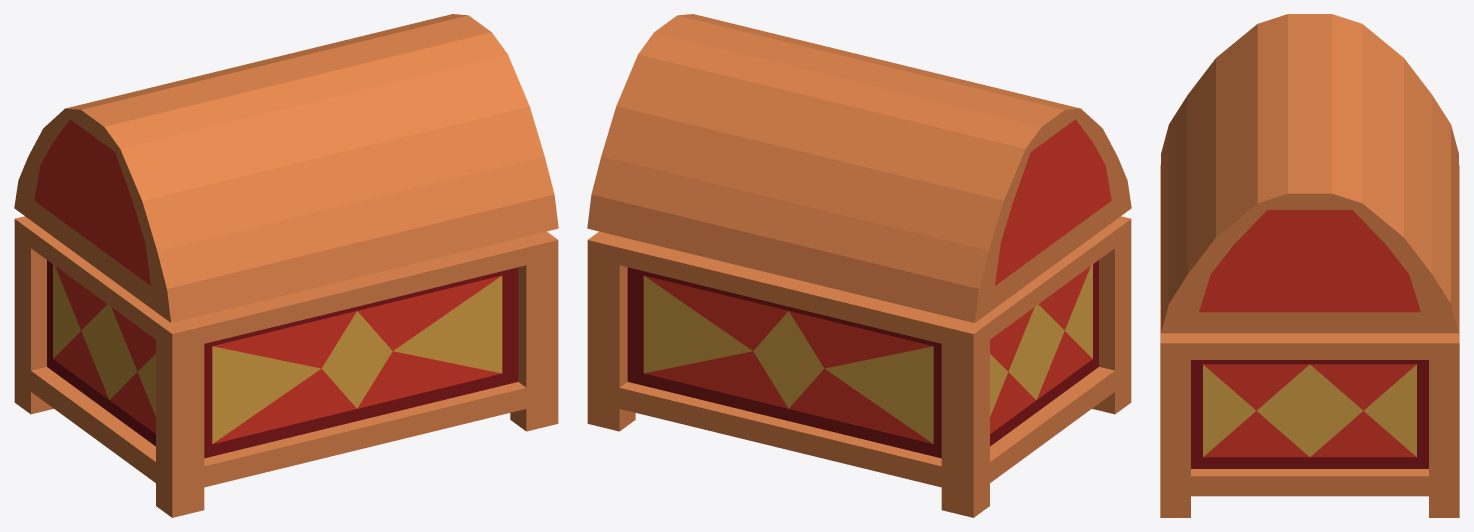
Rendered from Chest.fbx.
3 renders of one model, left to right at view 1: azimuth 30°, elevation 25°; view 2: azimuth 150°, elevation 25°; view 3: azimuth 270°, elevation 25°, orthographic. The views are drawn at different scales.
Visible parts, largest first — view 1: Cube, Plane; view 2: Cube, Plane; view 3: Cube, Plane.
Boxes of the visible parts, box(x1,y1,x2,y2) form: Cube: box(14, 14, 558, 322); Plane: box(14, 216, 558, 517); Cube: box(587, 14, 1131, 322); Plane: box(587, 216, 1131, 517); Cube: box(1161, 14, 1458, 333); Plane: box(1160, 164, 1459, 517).
Bounding box in the file's own units: 171 × 144 × 121.
